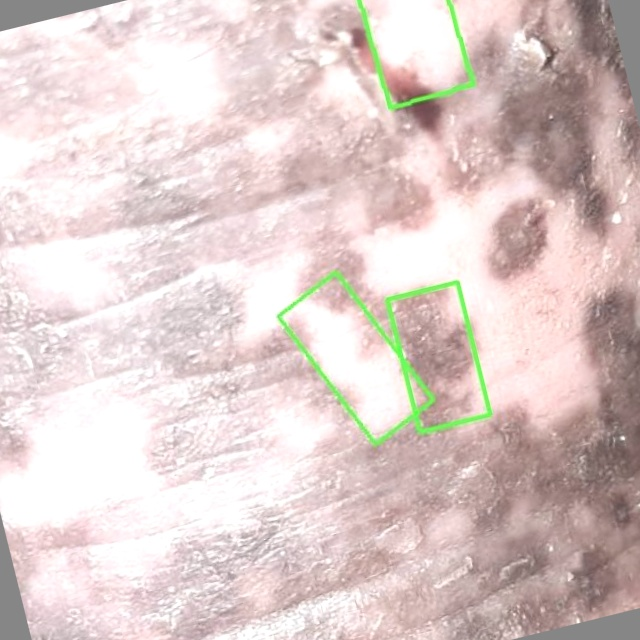Eczema: (277, 272, 433, 445), (387, 282, 490, 431), (359, 0, 472, 108)
